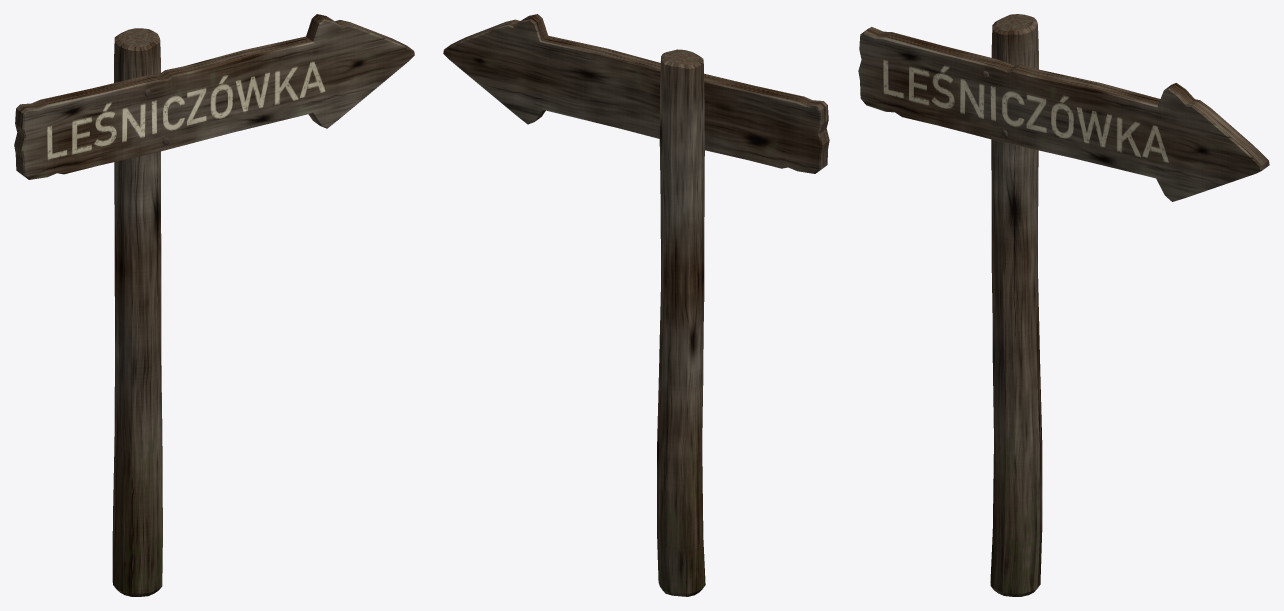
Rendered from forest_sign.glb.
3 views of the same model, side by side, from view 1: azimuth 30°, elevation 25°; view 2: azimuth 150°, elevation 25°; view 3: azimuth 330°, elevation 25° (orthographic). The views are drawn at different scales.
Parts seen in each view (by area): view 1: ForestSign_Arrow, ForestSign_Post; view 2: ForestSign_Arrow, ForestSign_Post; view 3: ForestSign_Arrow, ForestSign_Post.
Boxes of the visible parts, x1=… form: ForestSign_Arrow: x1=14, y1=14, x2=414, y2=179; ForestSign_Post: x1=112, y1=28, x2=162, y2=596; ForestSign_Arrow: x1=443, y1=14, x2=829, y2=173; ForestSign_Post: x1=657, y1=49, x2=705, y2=596; ForestSign_Arrow: x1=858, y1=27, x2=1269, y2=201; ForestSign_Post: x1=990, y1=14, x2=1042, y2=596.
Size of the model in its own units: 1.27 by 1.7 by 0.1864.
Materials: 3 (2 with a texture image).
